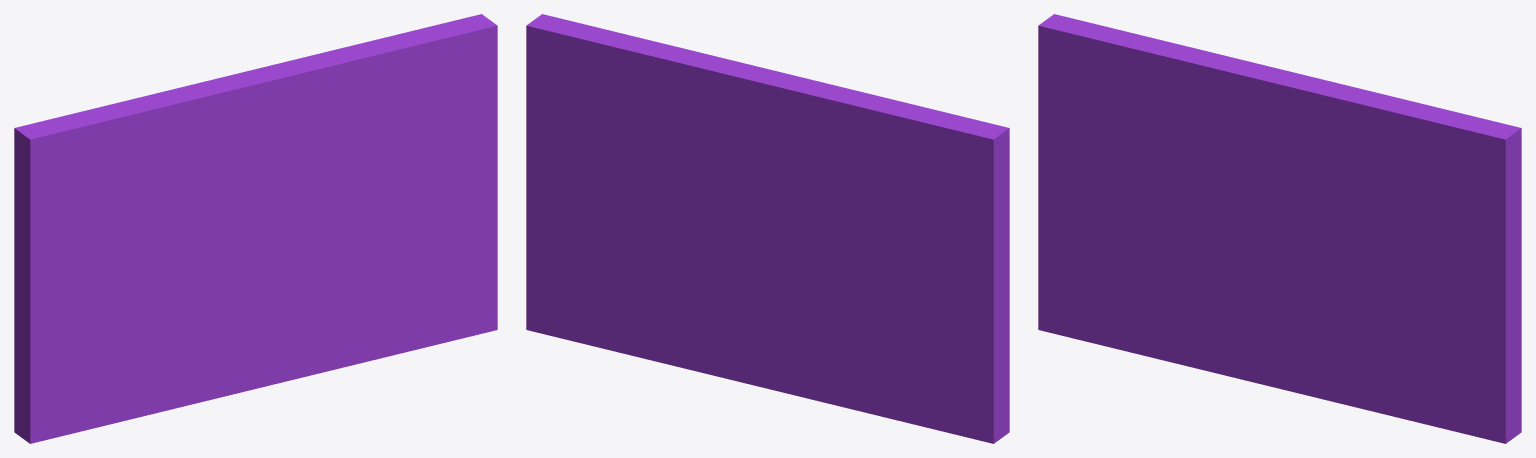
The model's file is Barrier_218_chunks.fbx.
The picture shows the model from 3 angles, left to right: view 1: azimuth 30°, elevation 25°; view 2: azimuth 150°, elevation 25°; view 3: azimuth 330°, elevation 25°; orthographic projection.
Parts seen in each view (by area): view 1: Barrier_218_0, Barrier_218_1, Barrier_218_4, Barrier_218_3, Barrier_218_6, Barrier_218_5, Barrier_218_2; view 2: Barrier_218_0, Barrier_218_1, Barrier_218_5, Barrier_218_4, Barrier_218_2, Barrier_218_6; view 3: Barrier_218_0, Barrier_218_1, Barrier_218_4, Barrier_218_3, Barrier_218_5, Barrier_218_6, Barrier_218_2.
Boxes of the visible parts, <box> form: Barrier_218_0: <box>14,93,265,443</box>; Barrier_218_1: <box>211,14,497,240</box>; Barrier_218_4: <box>152,296,375,413</box>; Barrier_218_3: <box>320,240,444,359</box>; Barrier_218_6: <box>214,240,356,319</box>; Barrier_218_5: <box>435,240,497,342</box>; Barrier_218_2: <box>152,74,234,94</box>; Barrier_218_0: <box>780,83,1009,443</box>; Barrier_218_1: <box>526,14,825,230</box>; Barrier_218_5: <box>526,230,695,359</box>; Barrier_218_4: <box>649,293,884,417</box>; Barrier_218_2: <box>737,85,856,256</box>; Barrier_218_6: <box>661,230,822,322</box>; Barrier_218_0: <box>1038,14,1273,359</box>; Barrier_218_1: <box>1221,68,1521,354</box>; Barrier_218_4: <box>1160,296,1383,414</box>; Barrier_218_3: <box>1328,285,1452,430</box>; Barrier_218_5: <box>1443,324,1521,443</box>; Barrier_218_6: <box>1222,241,1364,322</box>; Barrier_218_2: <box>1192,47,1274,68</box>.
Bounding box in the file's own units: 462 × 288 × 27.2.
